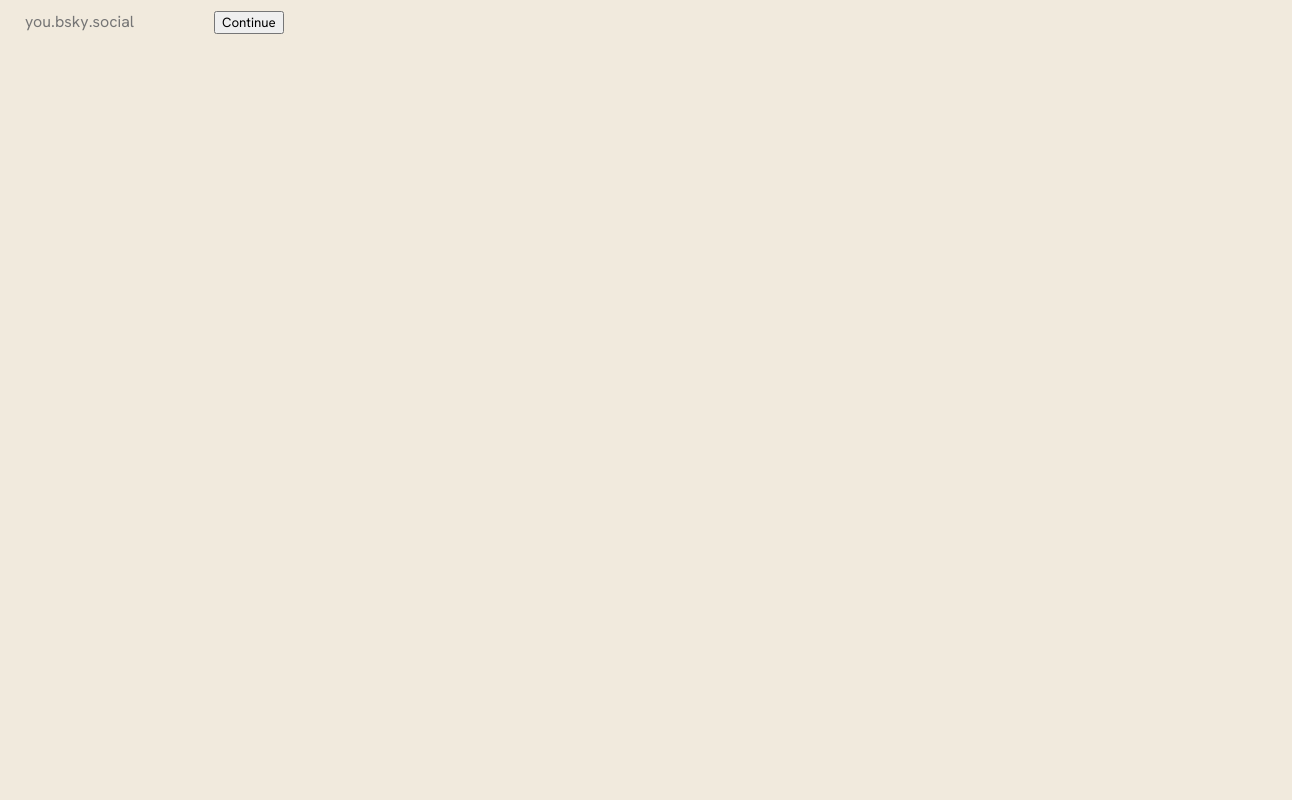
Test: HandleTypeahead › ignores a stale response
In the dropdown: [113, 22] box [12,0,214,43], type "gr"
Wait 250 ms
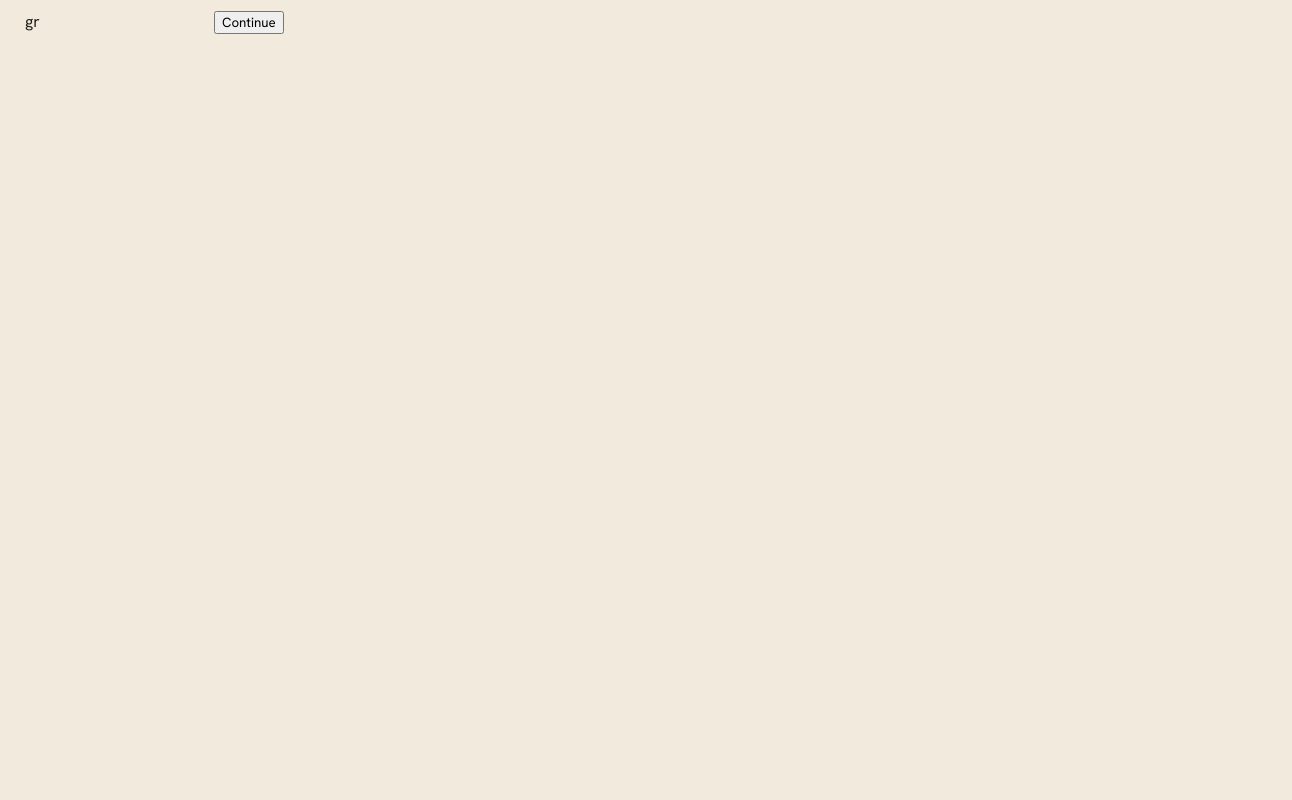
Replace the text in the dropdown with "grey": [113, 22] box [12,0,214,43]
Wait 250 ms
(page scrolled)
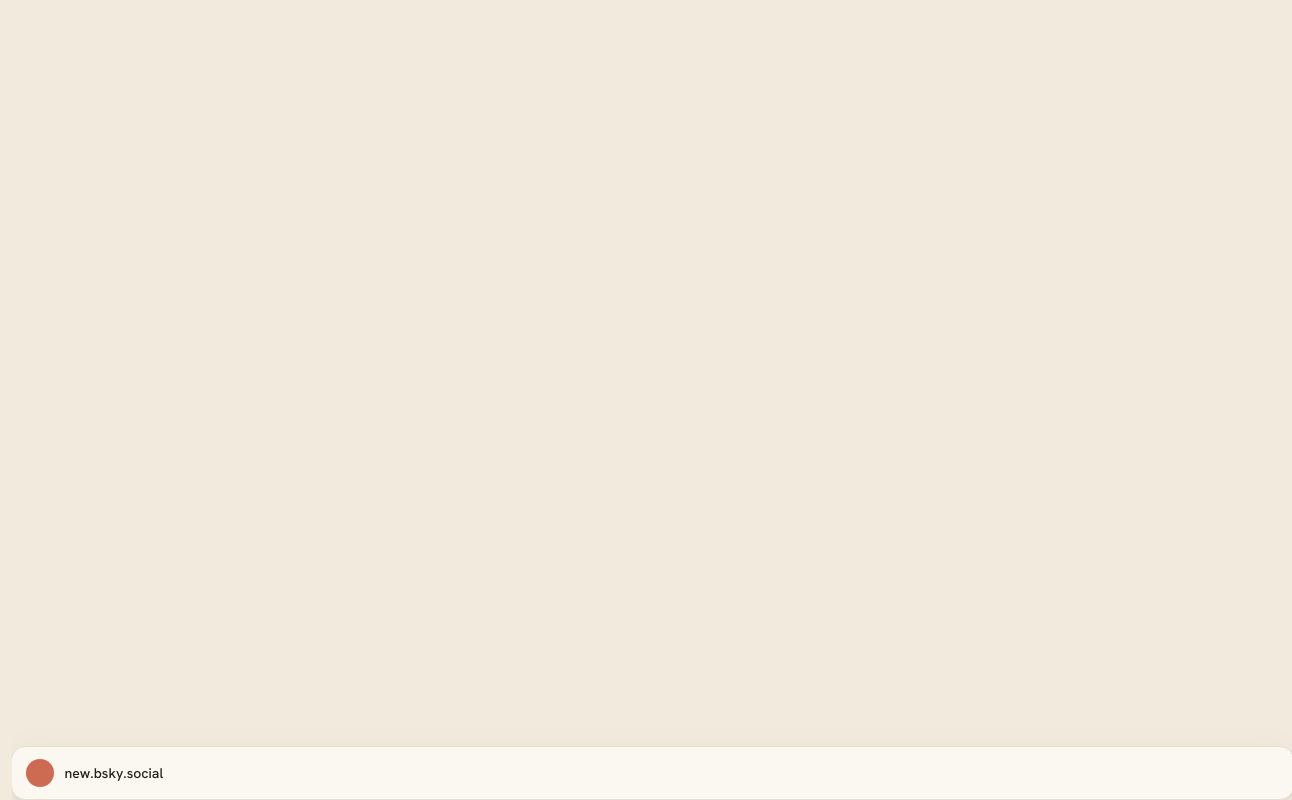
Expected: the number of options is 1, [26,759,163,787]
Expected: the option reads "new.bsky.social", [26,759,163,787]
